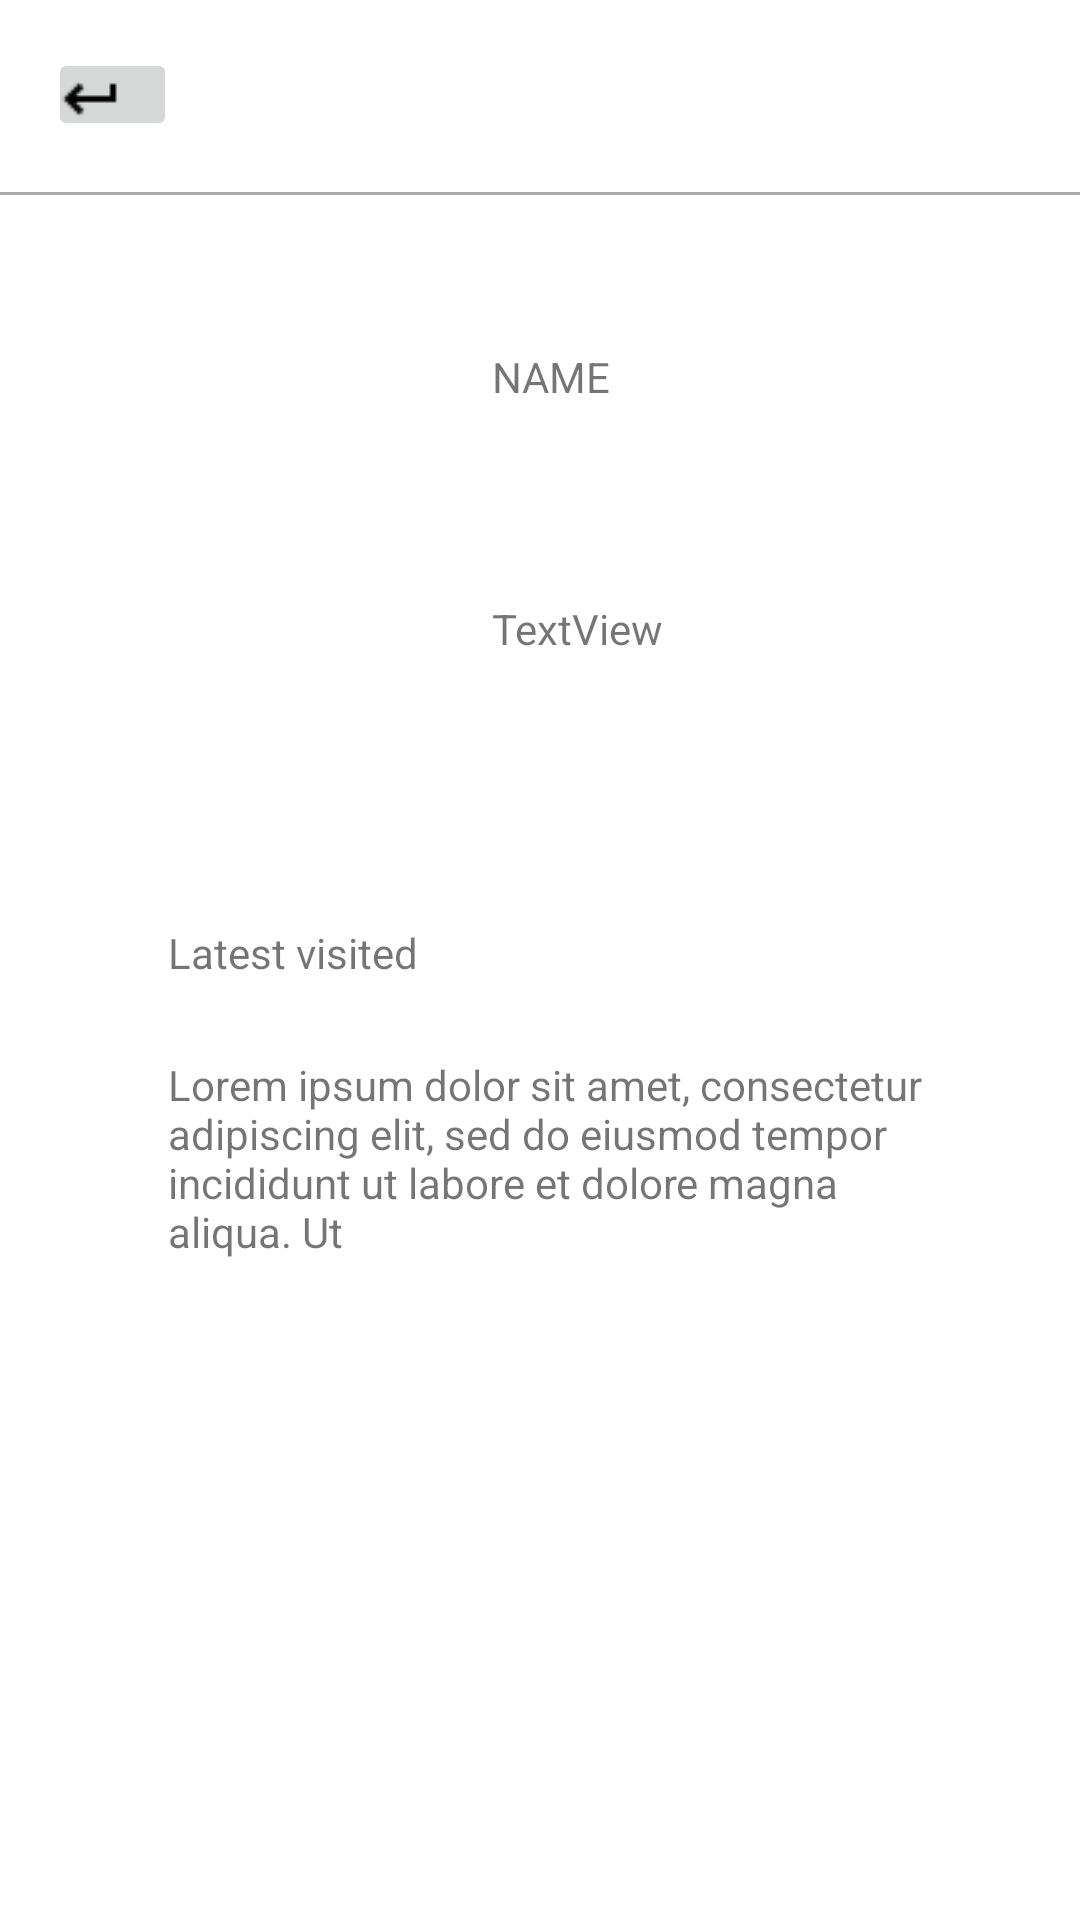

Where icons sit on this 1080*1920 app screen, as {"left": x1, "top": y1, "right": x2, "bottom": y2}:
keyboard enter return: {"left": 60, "top": 66, "right": 165, "bottom": 123}
